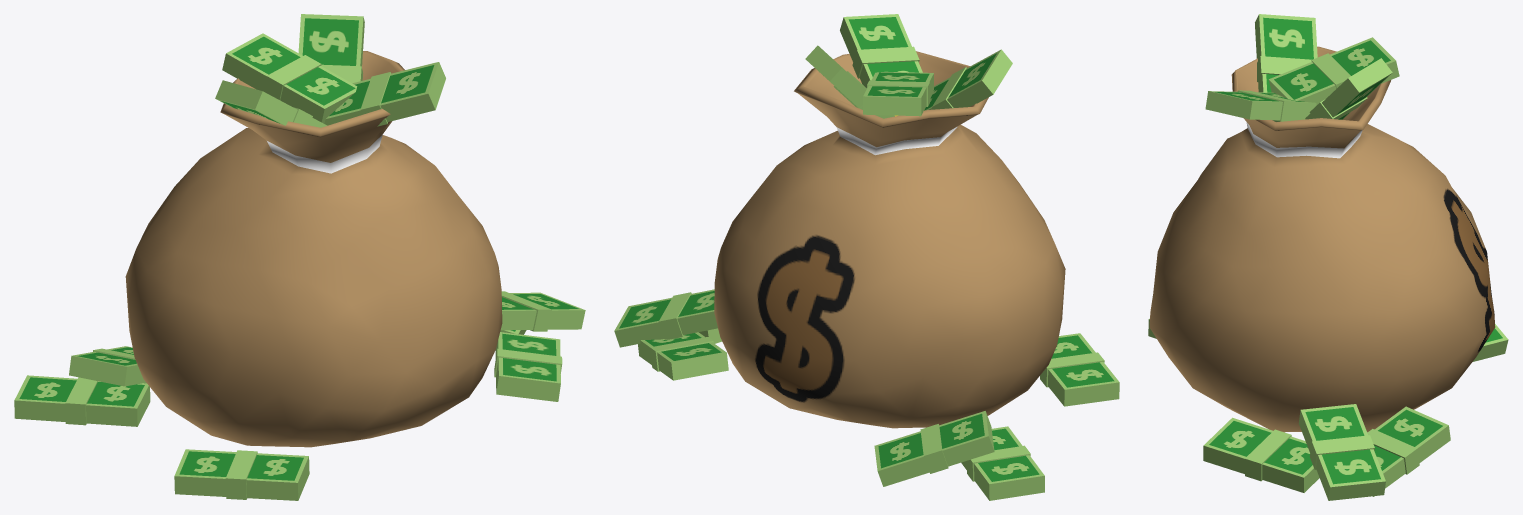
Rendered from RV_Money.fbx.
3 views of the same model, side by side, from view 1: azimuth 30°, elevation 25°; view 2: azimuth 150°, elevation 25°; view 3: azimuth 270°, elevation 25° (orthographic). The views are drawn at different scales.
Visible parts, largest first — view 1: RV_Money; view 2: RV_Money; view 3: RV_Money.
Boxes of the visible parts, bbox=[...] form: RV_Money: bbox=[14, 14, 585, 500]; RV_Money: bbox=[614, 14, 1119, 500]; RV_Money: bbox=[1148, 14, 1508, 500].
Size of the model in its own units: 3.52 by 2.47 by 2.33.
